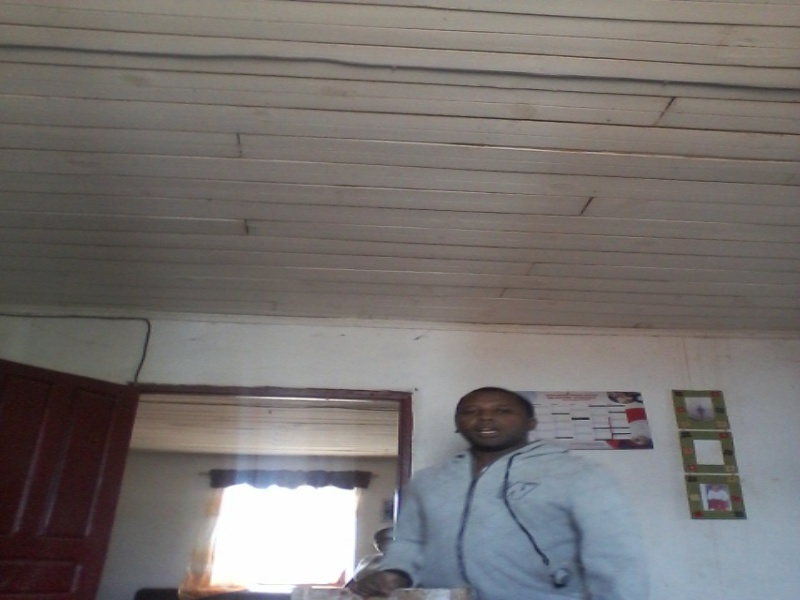TsisyArotava: (447, 384, 548, 467)
